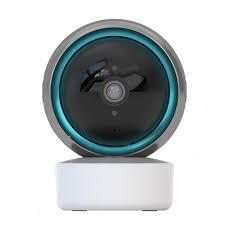maru: (39, 13, 191, 171)
